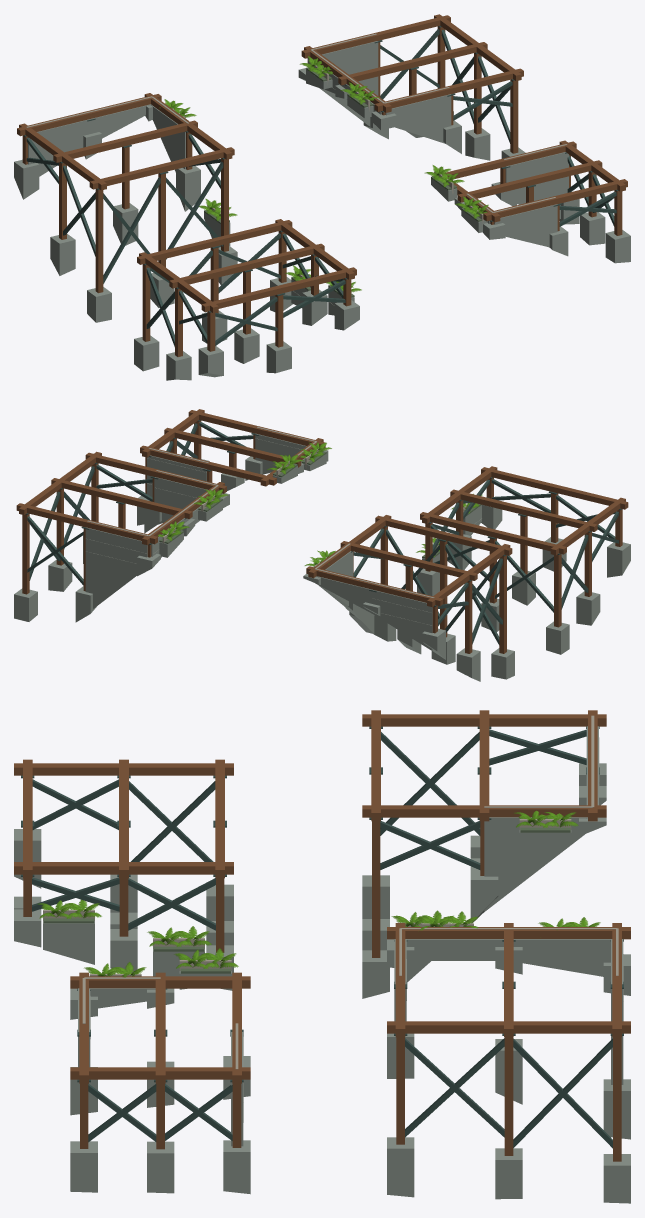
File: foundation-hybrid.glb
3 views of the same model, one above another, from view 1: azimuth 30°, elevation 25°; view 2: azimuth 150°, elevation 25°; view 3: azimuth 270°, elevation 25° (orthographic). The views are drawn at different scales.
Parts seen in each view (by area): view 1: HStructure; view 2: HStructure; view 3: HStructure.
Part boxes in pixels (x1,y1,x2,y2): HStructure: (14,14,630,380); HStructure: (14,409,630,681); HStructure: (14,710,630,1203).
Bounding box in the file's own units: 24.98 × 8.04 × 20.2.
7 materials, 1 textured.
